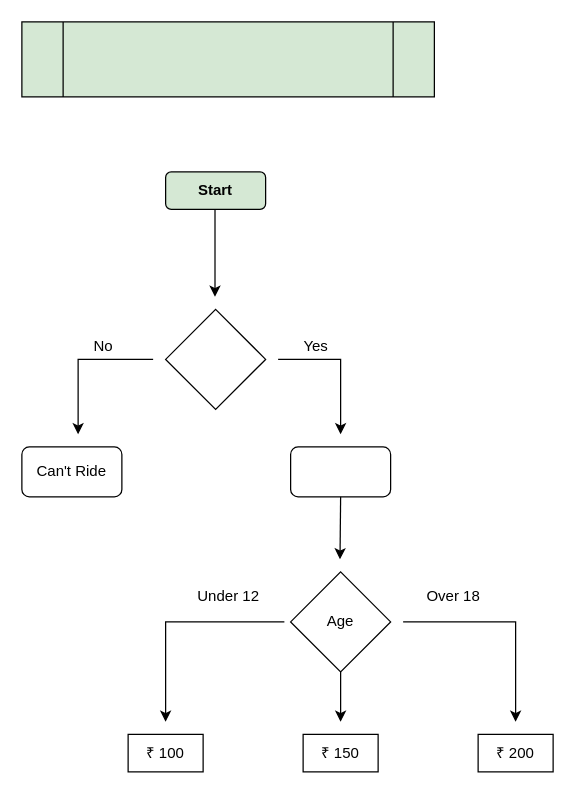
The diagram is 575 pixels wide and 794 high, and some of its shapes have lost their labels. Each missing label, with the box of its shape:
Can Ride: (289, 446, 391, 497)
Height > 120: (164, 308, 266, 409)
RollerCost Ride Game: (21, 21, 434, 97)
